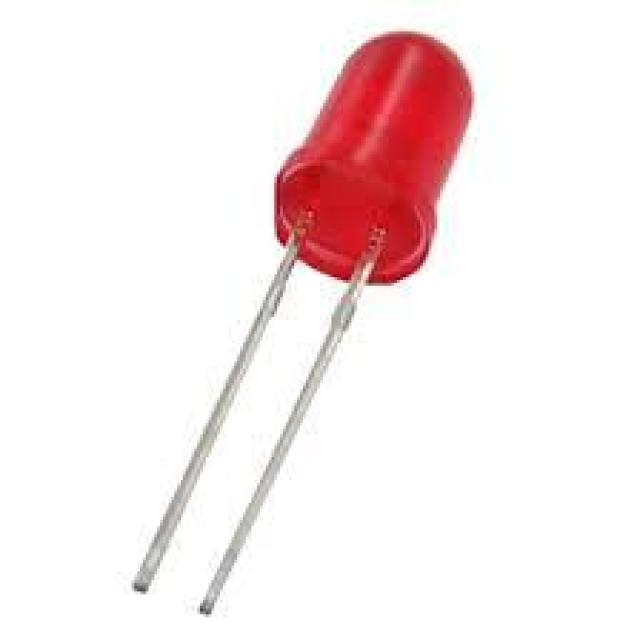Led: (137, 31, 477, 617)
